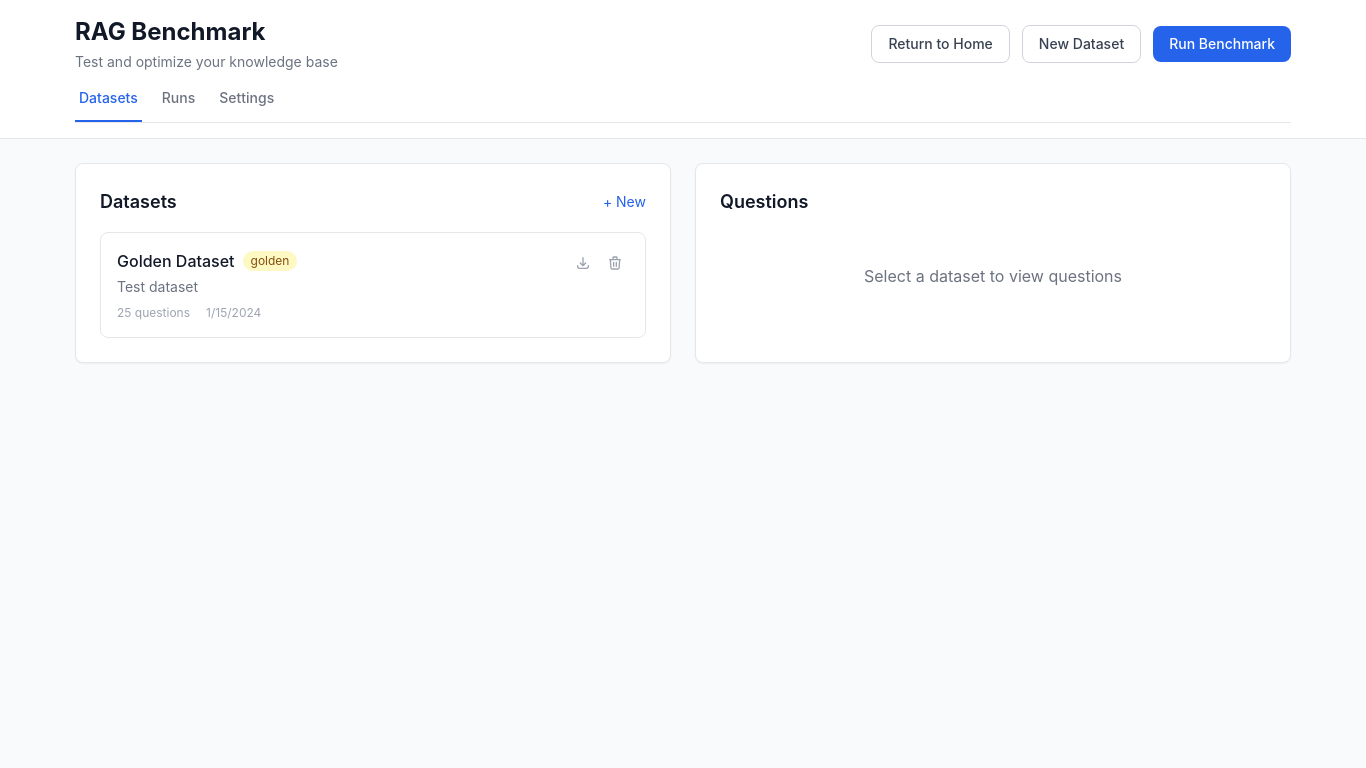
Test: BenchmarkDashboard › closes modal when cancel is clicked
What coordinates should you click on to do the following:
click the button "New Dataset"
I would click on:
 (1082, 44)
Its box is [1022, 25, 1141, 63].
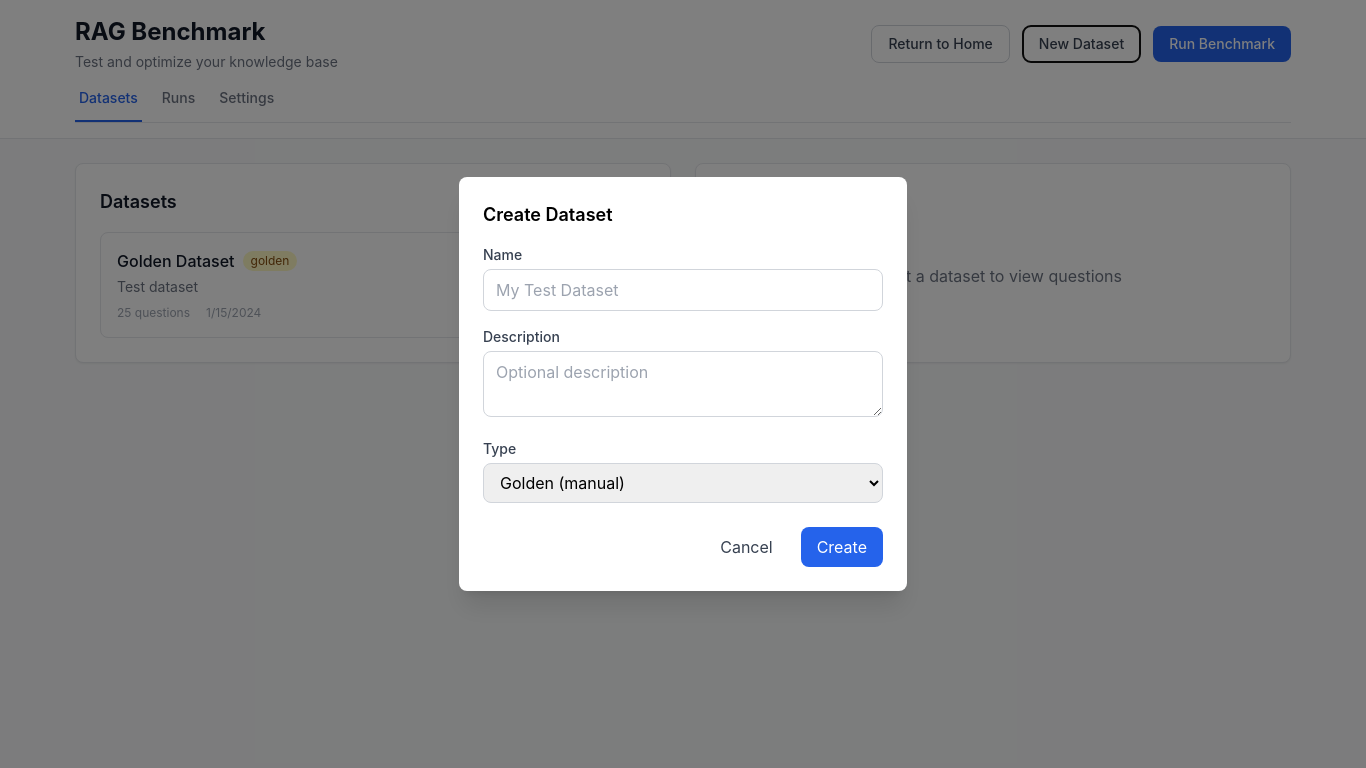
Now the heading "Create Dataset" is shown, box [483, 204, 612, 225]
What coordinates should you click on to do the following:
click the button "Cancel"
I would click on:
 (746, 547)
Its box is [704, 527, 789, 567].
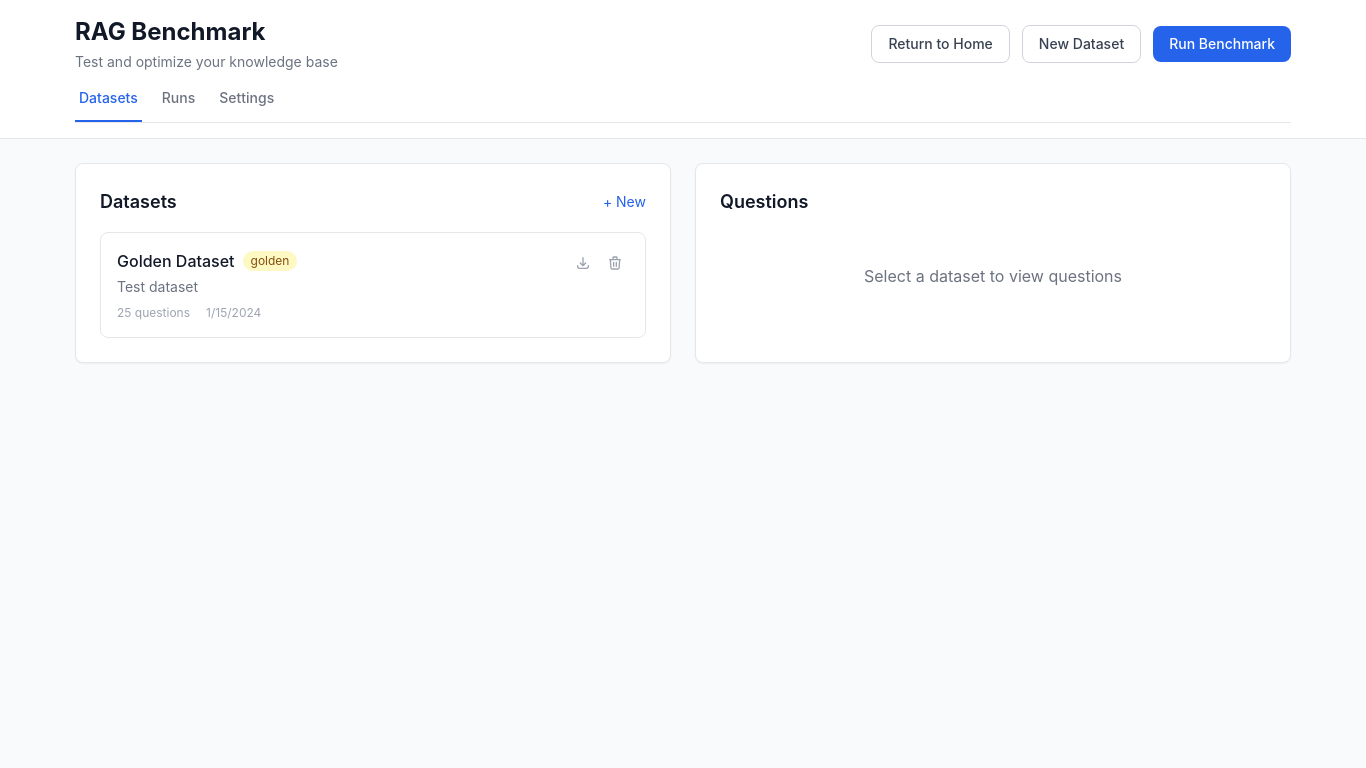
Now the heading "Create Dataset" is gone
